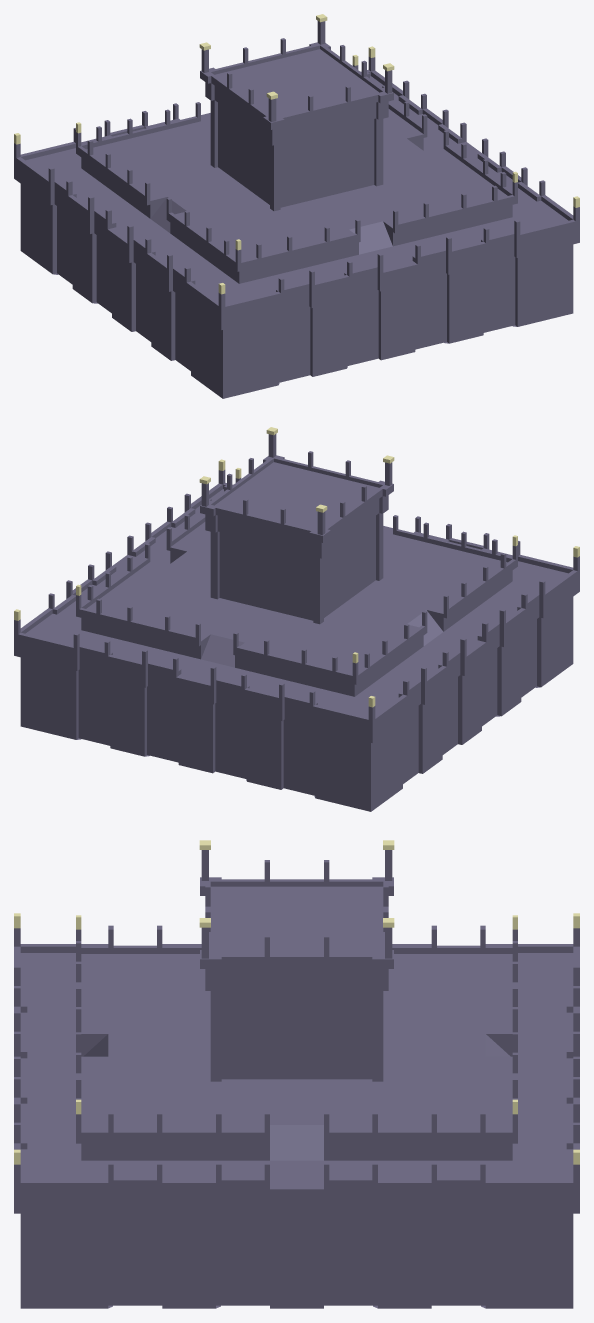
File: Tower Top.fbx
3 views of the same model, one above another, from view 1: azimuth 30°, elevation 25°; view 2: azimuth 150°, elevation 25°; view 3: azimuth 270°, elevation 25° (orthographic). The views are drawn at different scales.
Visible parts, largest first — view 1: Tower top; view 2: Tower top; view 3: Tower top.
Boxes of the visible parts, <box> form: Tower top: <box>14,14,579,398</box>; Tower top: <box>14,427,579,811</box>; Tower top: <box>14,840,579,1308</box>.
Size of the model in its own units: 2.1 by 1.27 by 2.1.
